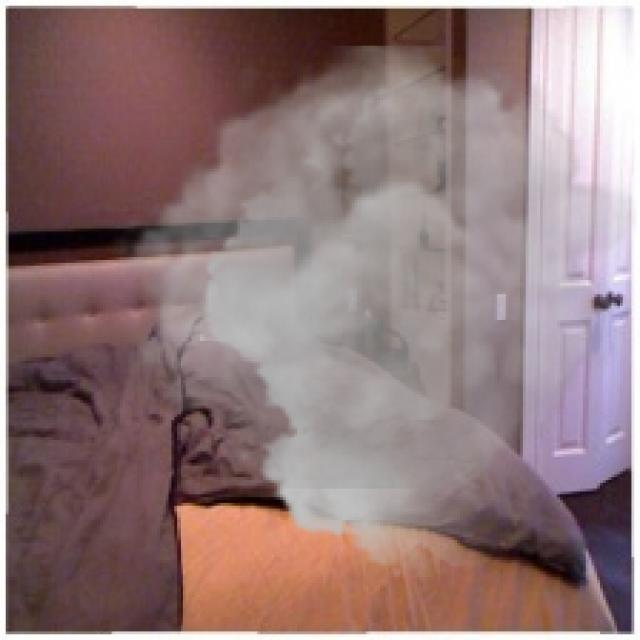Smoke: (105, 45, 638, 578)
